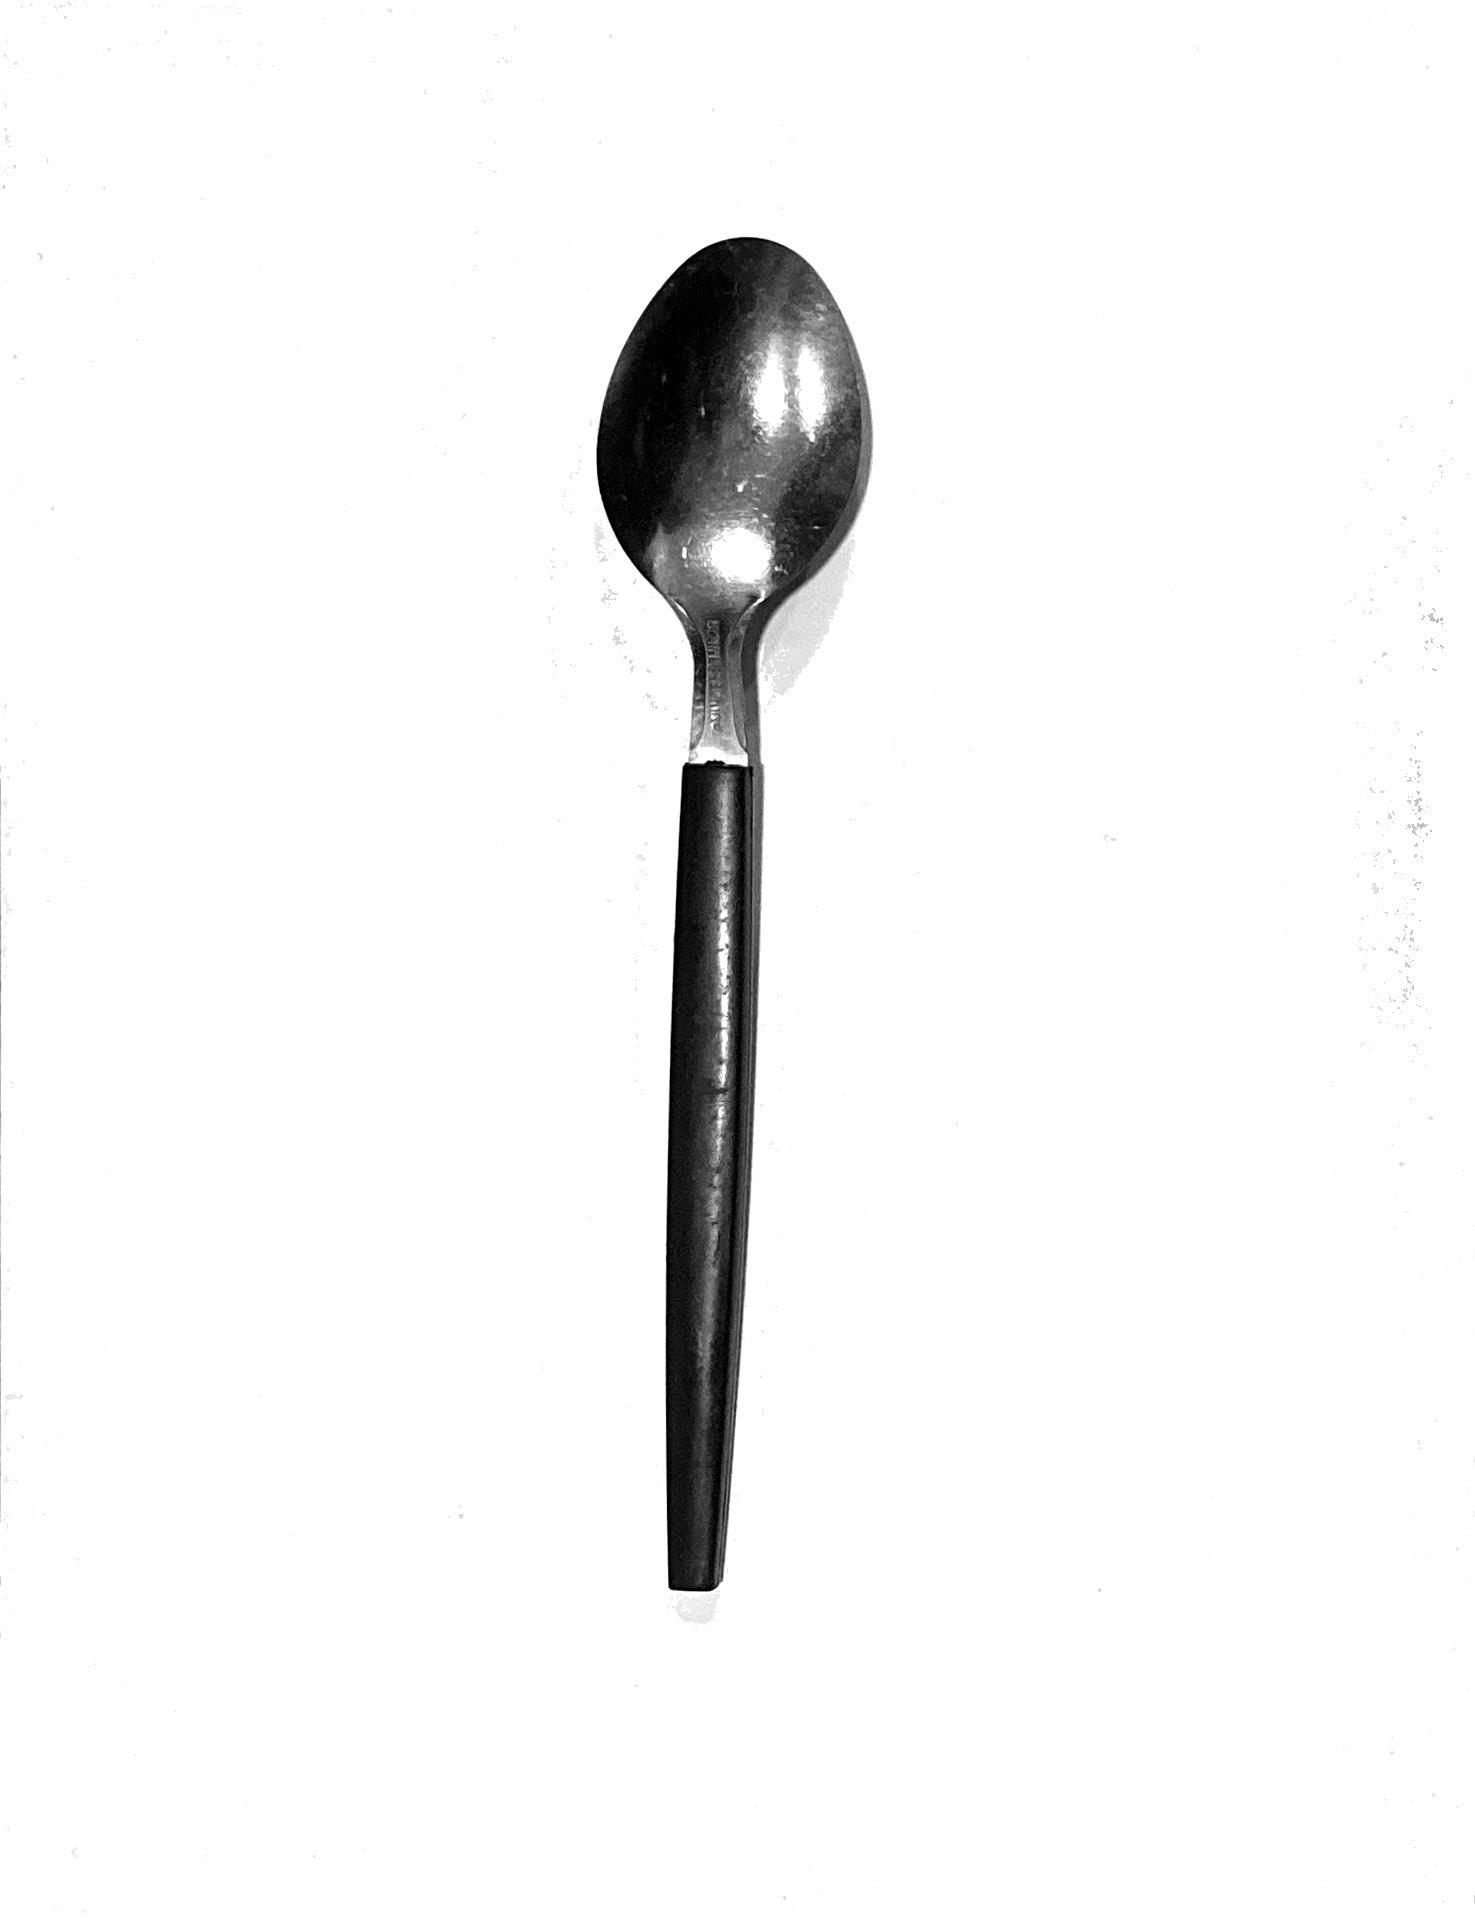Spoon: (572, 208, 913, 1663)
